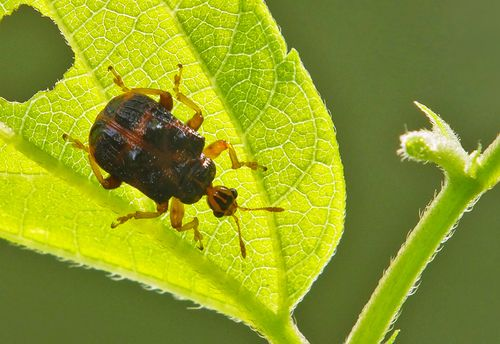Curculionidae: (62, 63, 285, 258)
